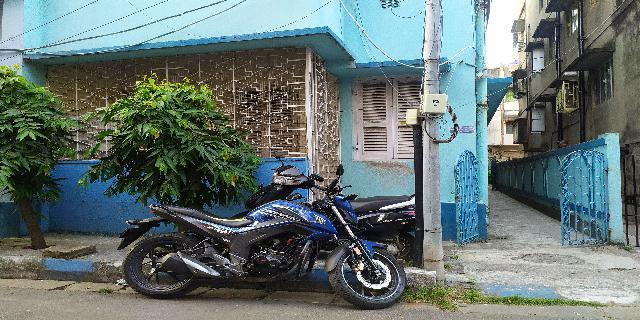Motorbike: (97, 174, 404, 303)
